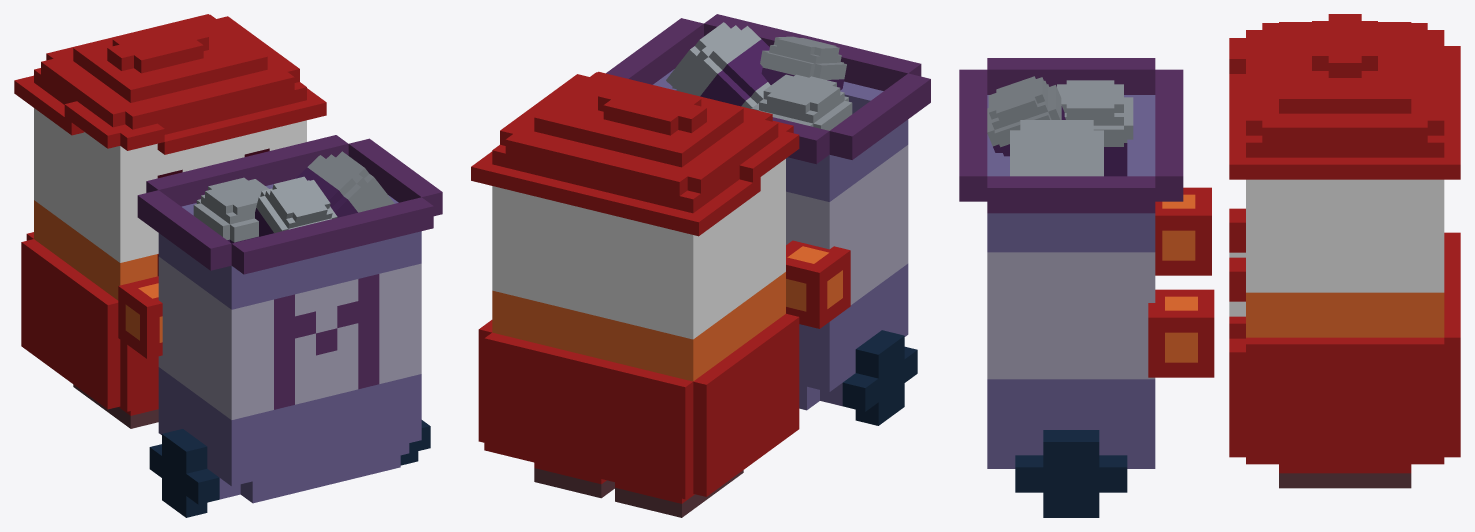
The model's file is p4MetConDizzy.gltf.
The picture shows the model from 3 angles, left to right: view 1: azimuth 30°, elevation 25°; view 2: azimuth 150°, elevation 25°; view 3: azimuth 270°, elevation 25°; orthographic projection. The views are drawn at different scales.
Parts seen in each view (by area): view 1: Yup2Zup.001; view 2: Yup2Zup.001; view 3: Yup2Zup.001.
Boxes of the visible parts, x1,y1,x2,y2 form: Yup2Zup.001: (14, 14, 442, 517); Yup2Zup.001: (471, 14, 930, 517); Yup2Zup.001: (959, 14, 1460, 517).
Size of the model in its own units: 1.91 by 2.72 by 3.03.
Materials: 7 (7 with a texture image).
